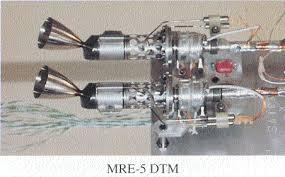thruster: (32, 64, 90, 102), (37, 17, 90, 56)
